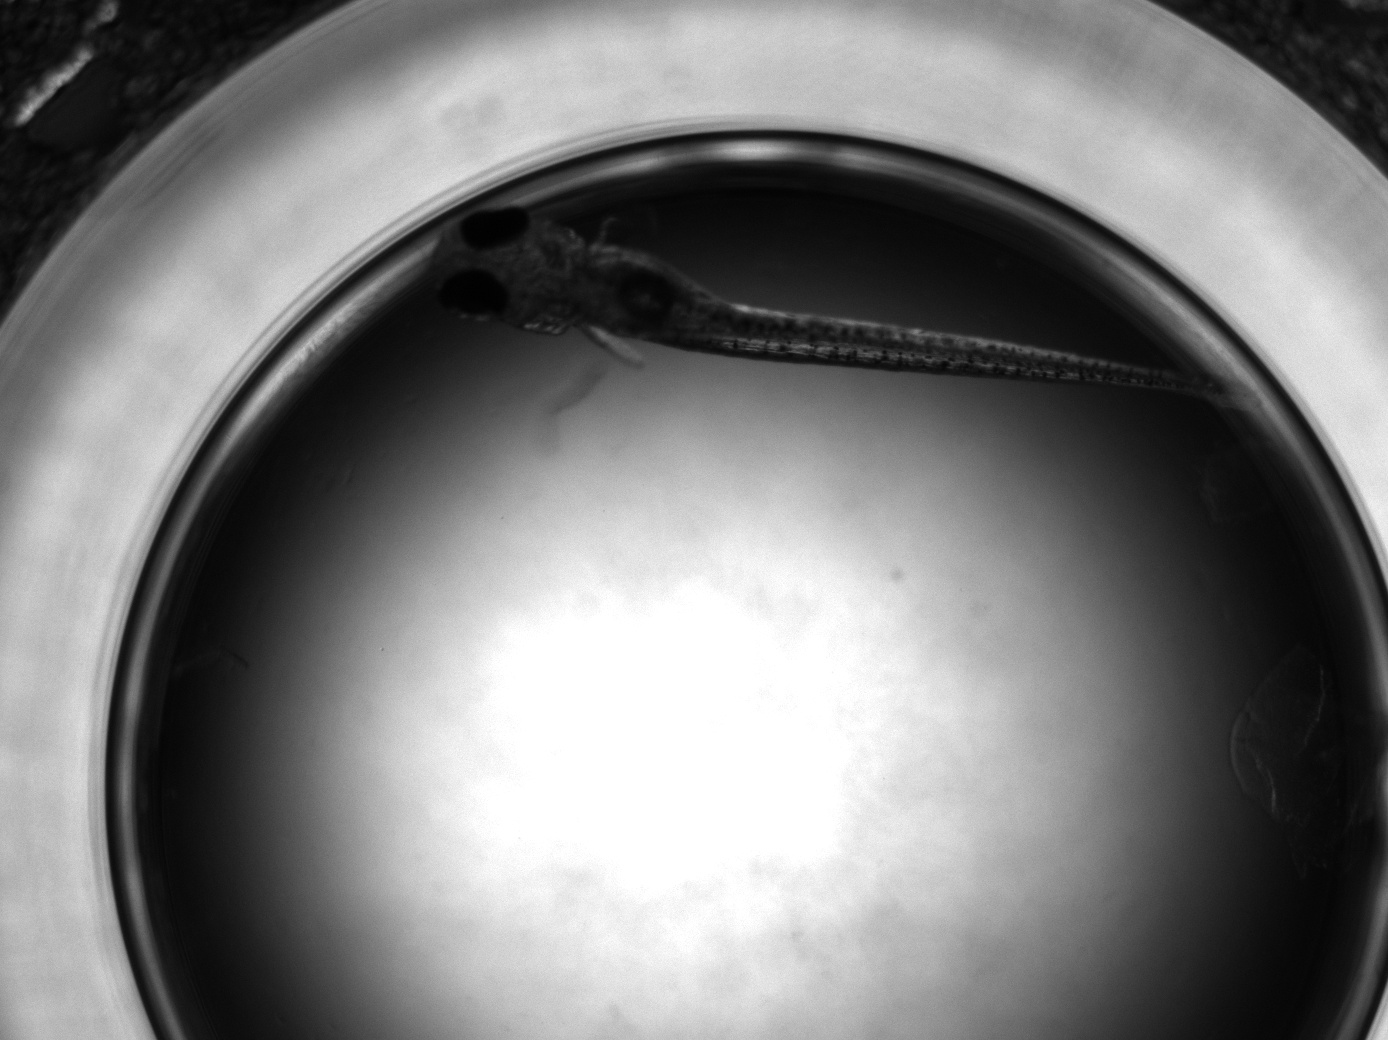embryo: (432, 206, 1233, 400)
eye: (434, 265, 512, 321), (460, 206, 531, 251)
yolksac: (571, 241, 734, 352)
